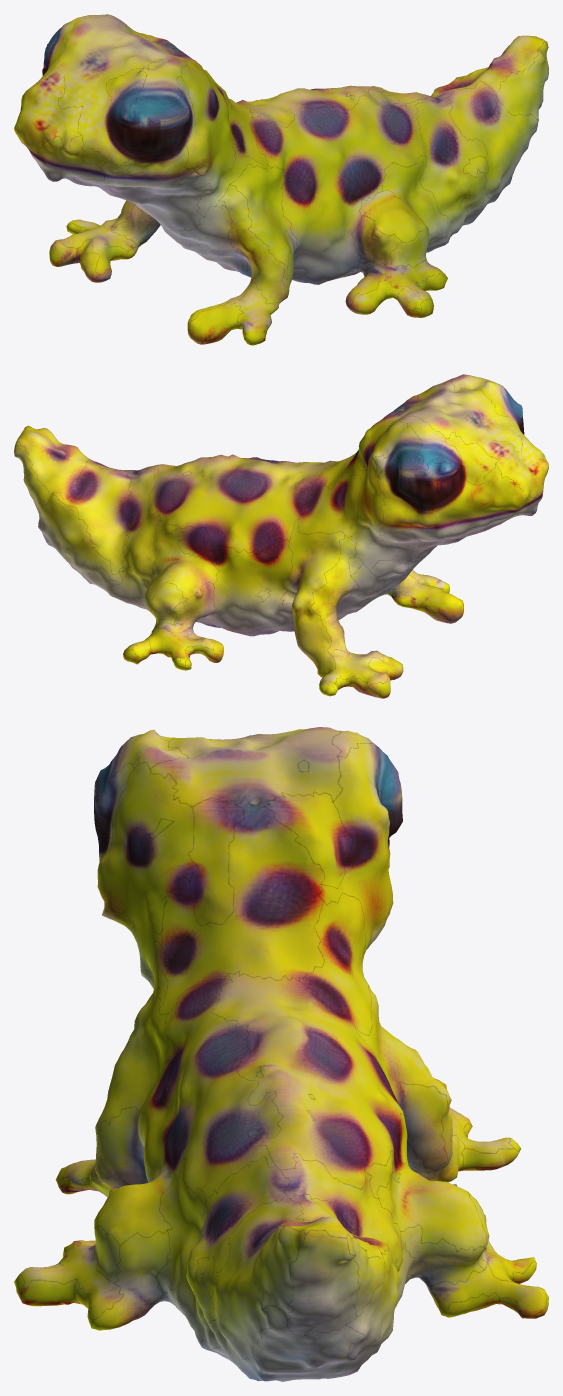
File: lizard.glb
The picture shows the model from 3 angles, top to bottom: view 1: azimuth 30°, elevation 25°; view 2: azimuth 150°, elevation 25°; view 3: azimuth 270°, elevation 25°; orthographic projection. The views are drawn at different scales.
Parts seen in each view (by area): view 1: Mesh1; view 2: Mesh1; view 3: Mesh1.
Boxes of the visible parts, <box> form: Mesh1: <box>14,14,548,345</box>; Mesh1: <box>14,374,548,698</box>; Mesh1: <box>14,727,548,1381</box>.
Bounding box in the file's own units: 1.2 × 0.6047 × 0.7016.
Materials: 1 (1 with a texture image).
